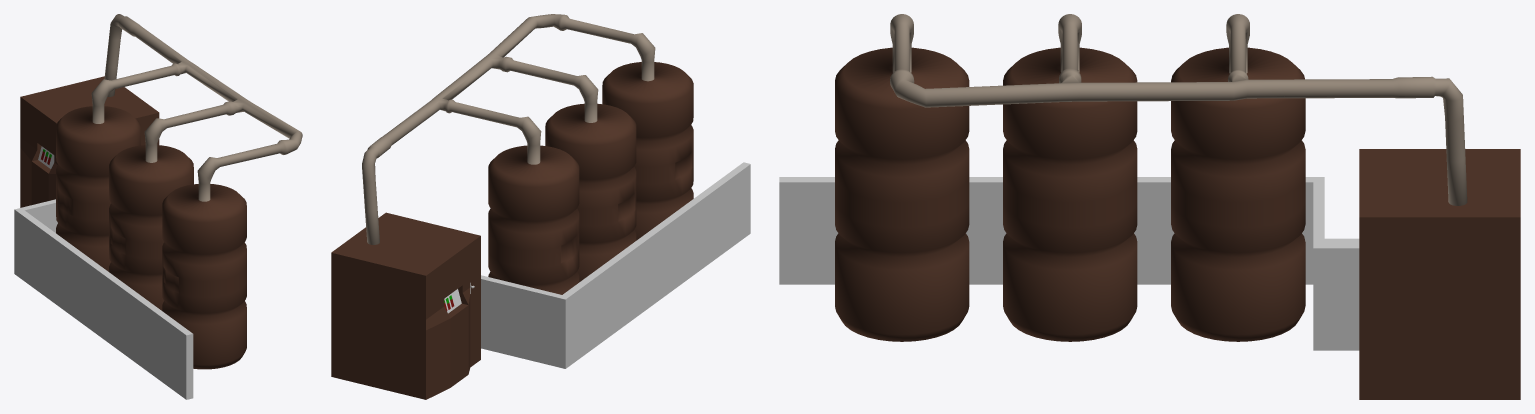
The model's file is tanks.fbx.
3 renders of one model, left to right at view 1: azimuth 30°, elevation 25°; view 2: azimuth 150°, elevation 25°; view 3: azimuth 270°, elevation 25°, orthographic. The views are drawn at different scales.
Visible parts, largest first — view 1: Cylinder.002; view 2: Cylinder.002; view 3: Cylinder.002.
Boxes of the visible parts, x1,y1,x2,y2 form: Cylinder.002: (14,14,302,399); Cylinder.002: (331,14,750,399); Cylinder.002: (779,14,1520,399).
Size of the model in its own units: 442 by 516 by 1103.
